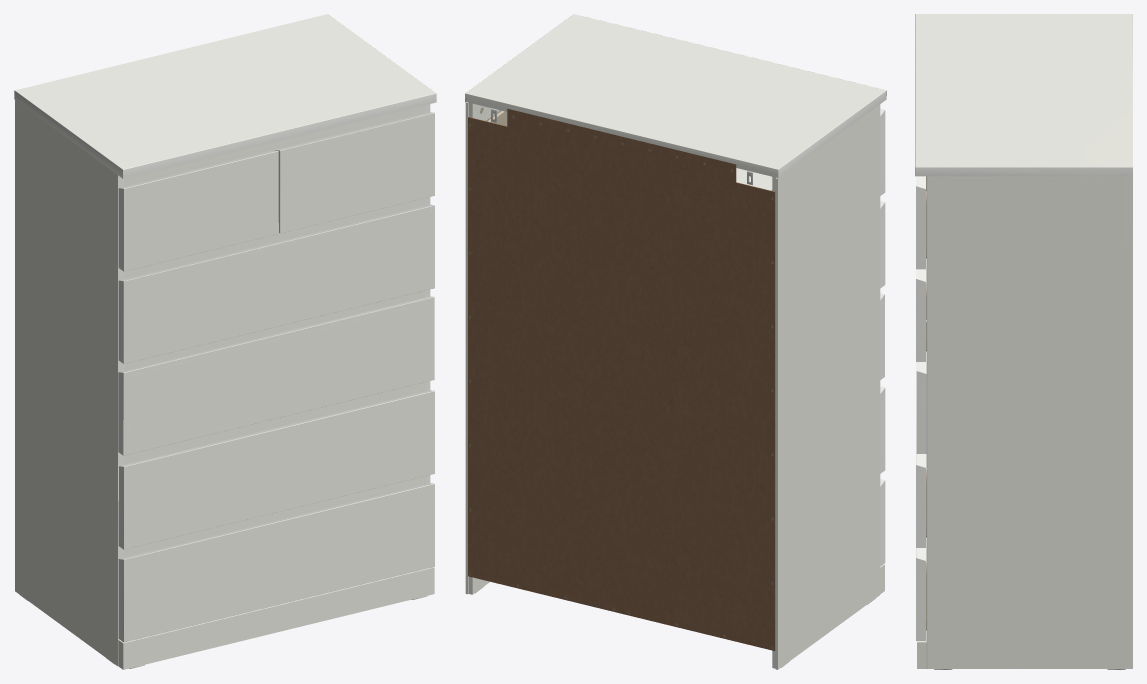
Rendered from ISP3.glb.
3 renders of one model, left to right at view 1: azimuth 30°, elevation 25°; view 2: azimuth 150°, elevation 25°; view 3: azimuth 270°, elevation 25°, orthographic.
Visible parts, largest first — view 1: 60403602-MALM001; view 2: 60403602-MALM001; view 3: 60403602-MALM001.
Boxes of the visible parts, left/top/right/bottom form: 60403602-MALM001: left=14, top=14, right=436, bottom=669; 60403602-MALM001: left=465, top=14, right=886, bottom=669; 60403602-MALM001: left=915, top=14, right=1132, bottom=669.
Bounding box in the file's own units: 0.803 × 1.23 × 0.482.
1 material, 1 textured.
